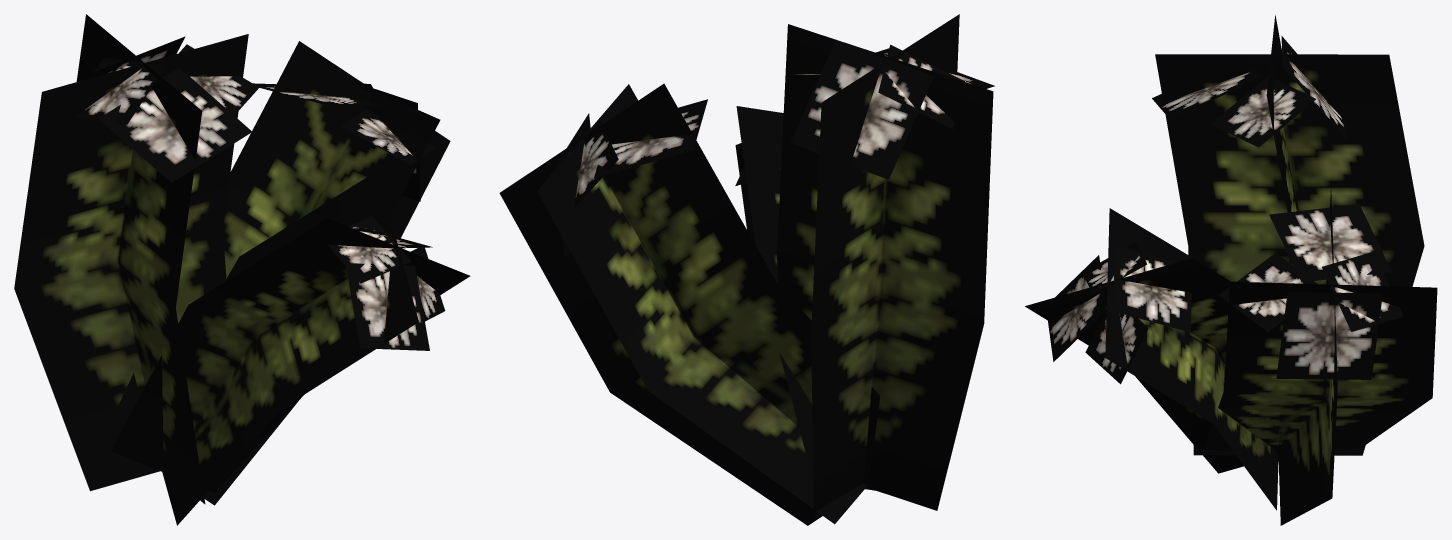
File: OZ_02_mi_Eweed01F.glb
3 views of the same model, side by side, from view 1: azimuth 30°, elevation 25°; view 2: azimuth 150°, elevation 25°; view 3: azimuth 270°, elevation 25° (orthographic). The views are drawn at different scales.
Parts seen in each view (by area): view 1: OM_02_mi_Eweed01F; view 2: OM_02_mi_Eweed01F; view 3: OM_02_mi_Eweed01F.
Part boxes in pixels (box(x1,y1,x2,y2)): OM_02_mi_Eweed01F: box(14, 14, 470, 525); OM_02_mi_Eweed01F: box(499, 14, 994, 525); OM_02_mi_Eweed01F: box(1025, 15, 1437, 525).
Bounding box in the file's own units: 0.3797 × 0.3822 × 0.32.
Materials: 1 (1 with a texture image).
